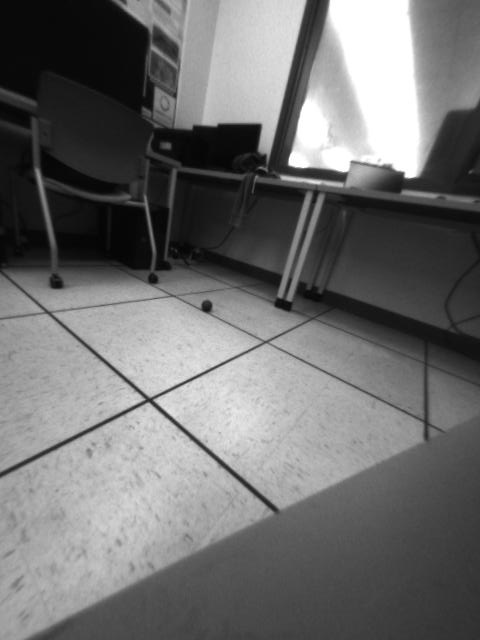dogtoy: (193, 295, 221, 316)
